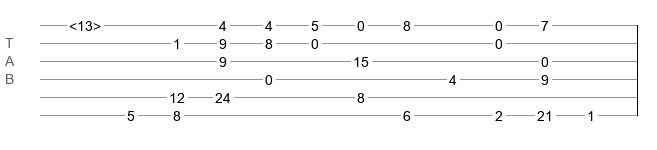0: (265, 72, 273, 82), (311, 36, 319, 46), (357, 18, 365, 28), (495, 36, 503, 46), (495, 18, 503, 28), (541, 54, 549, 64)
1: (173, 36, 181, 46), (587, 108, 595, 118)
12: (169, 90, 185, 100)
15: (353, 54, 369, 64)
2: (495, 108, 503, 118)
21: (537, 108, 553, 118)
24: (215, 90, 231, 100)
4: (219, 18, 227, 28), (265, 18, 273, 28), (449, 72, 457, 82)
5: (127, 108, 135, 118), (311, 18, 319, 28)
6: (403, 108, 411, 118)
7: (541, 18, 549, 28)
8: (173, 108, 181, 118), (265, 36, 273, 46), (357, 90, 365, 100), (403, 18, 411, 28)
9: (219, 36, 227, 46), (219, 54, 227, 64), (541, 72, 549, 82)
harmonic: (69, 18, 101, 28)
